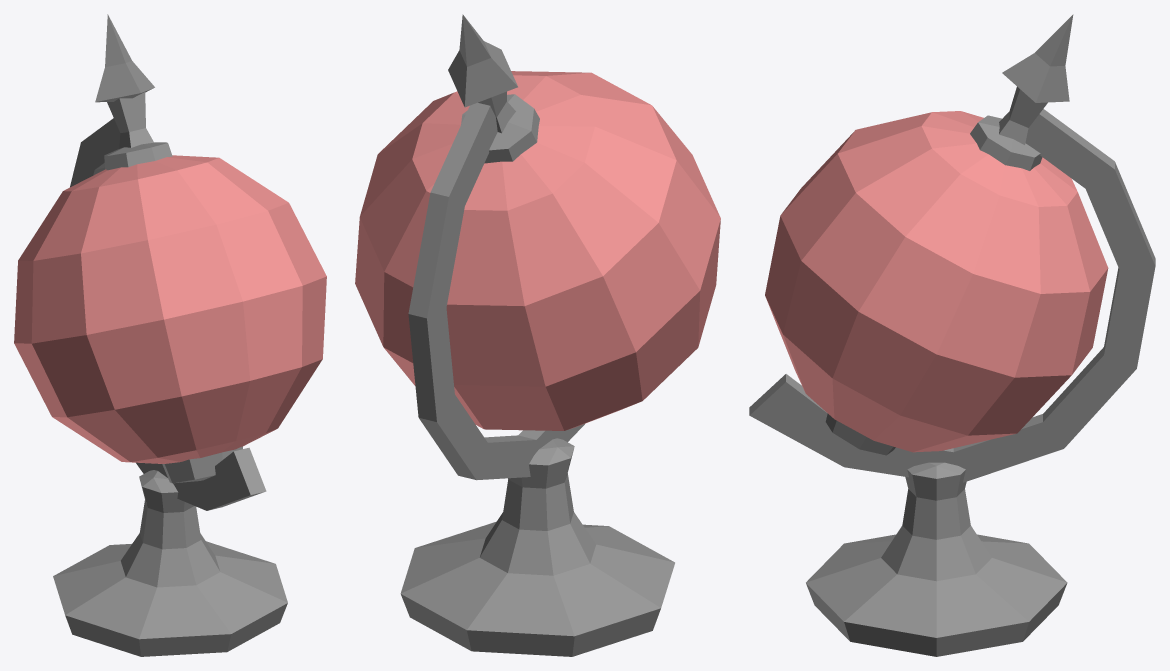
File: Globe.fbx
3 views of the same model, side by side, from view 1: azimuth 30°, elevation 25°; view 2: azimuth 150°, elevation 25°; view 3: azimuth 270°, elevation 25° (orthographic). The views are drawn at different scales.
Visible parts, largest first — view 1: SM_Globe; view 2: SM_Globe; view 3: SM_Globe.
Boxes of the visible parts, x1,y1,x2,y2 form: SM_Globe: [14, 14, 326, 656]; SM_Globe: [355, 14, 720, 656]; SM_Globe: [749, 14, 1155, 656].
Bounding box in the file's own units: 66.85 × 127 × 78.71.
